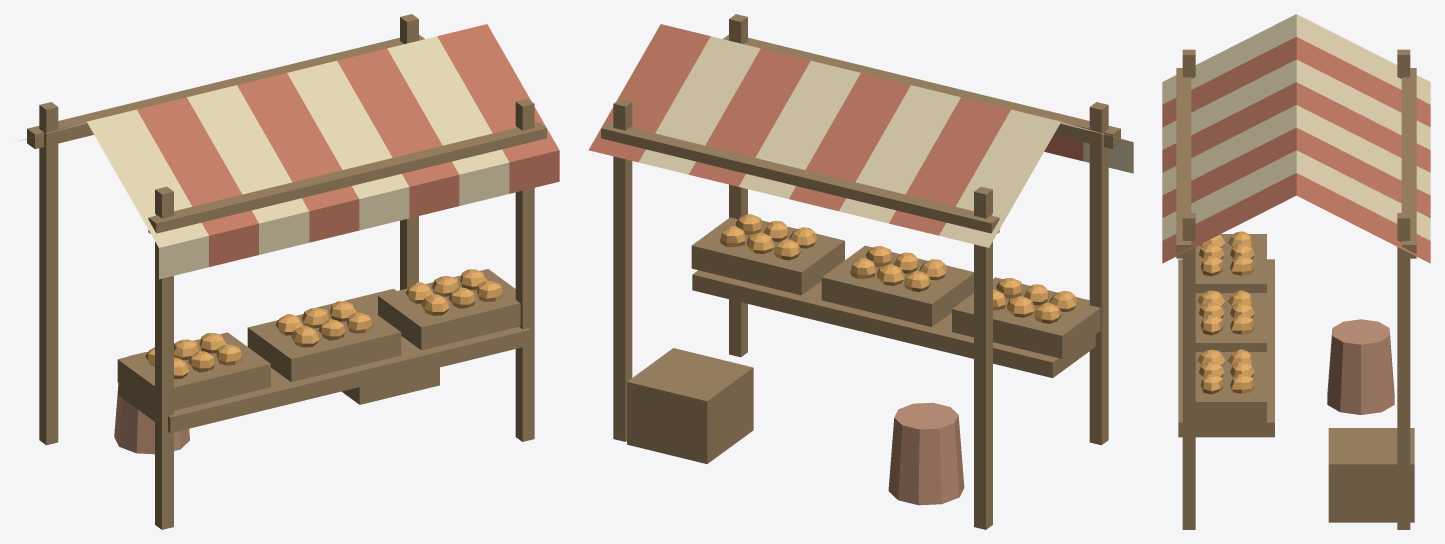
The model's file is detail_market.glb.
3 views of the same model, side by side, from view 1: azimuth 30°, elevation 25°; view 2: azimuth 150°, elevation 25°; view 3: azimuth 270°, elevation 25° (orthographic). The views are drawn at different scales.
Parts seen in each view (by area): view 1: detail_market; view 2: detail_market; view 3: detail_market.
Boxes of the visible parts, x1,y1,x2,y2 form: detail_market: (18, 14, 559, 529); detail_market: (588, 14, 1133, 529); detail_market: (1162, 14, 1430, 529).
Size of the model in its own units: 4 by 3.5 by 2.5.
